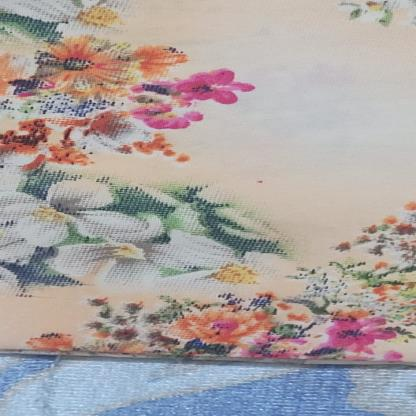spot: (254, 179, 270, 186)
